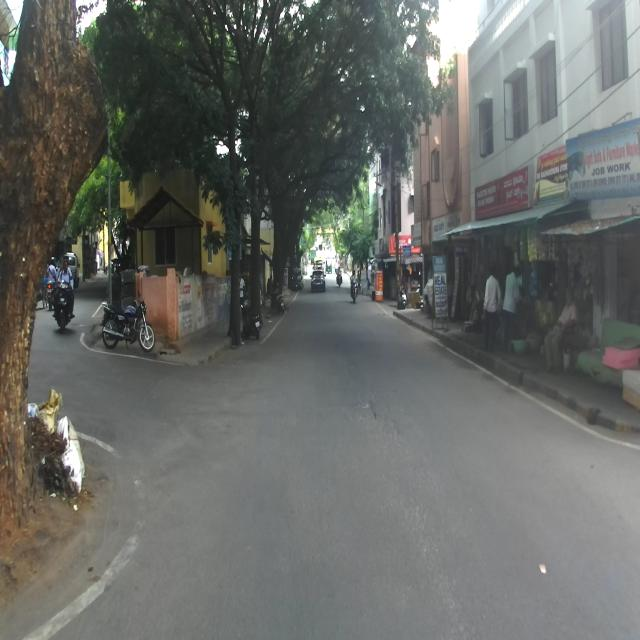motorcycle ahead at: (98, 293, 159, 358)
tree ahead at: (213, 54, 252, 352)
